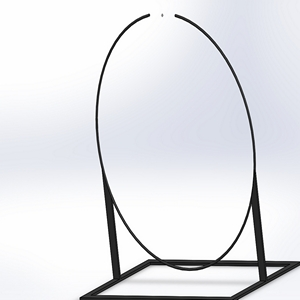circle: (81, 10, 300, 300)
